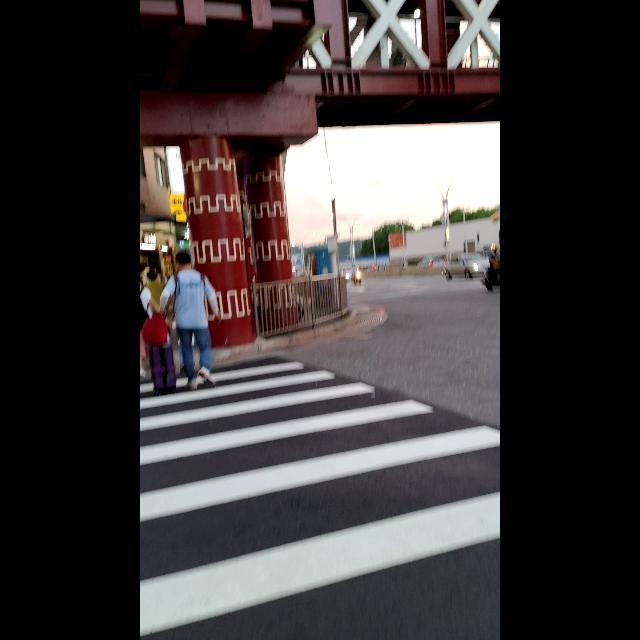sidewalk: (140, 348, 500, 640)
